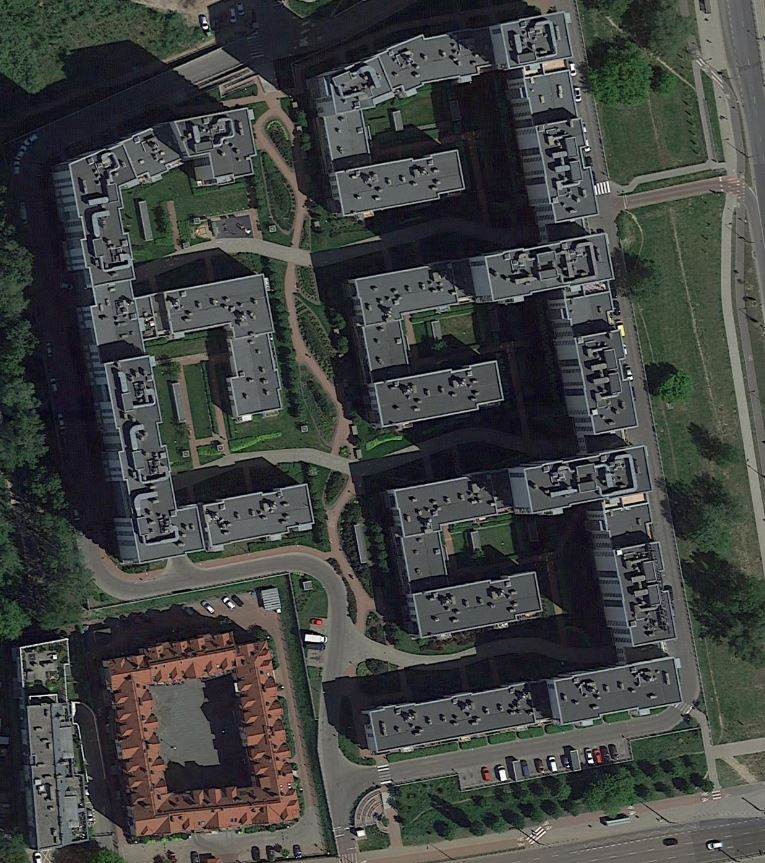block of flats: (316, 5, 693, 758), (41, 93, 322, 573), (95, 624, 304, 847), (6, 625, 94, 851)
